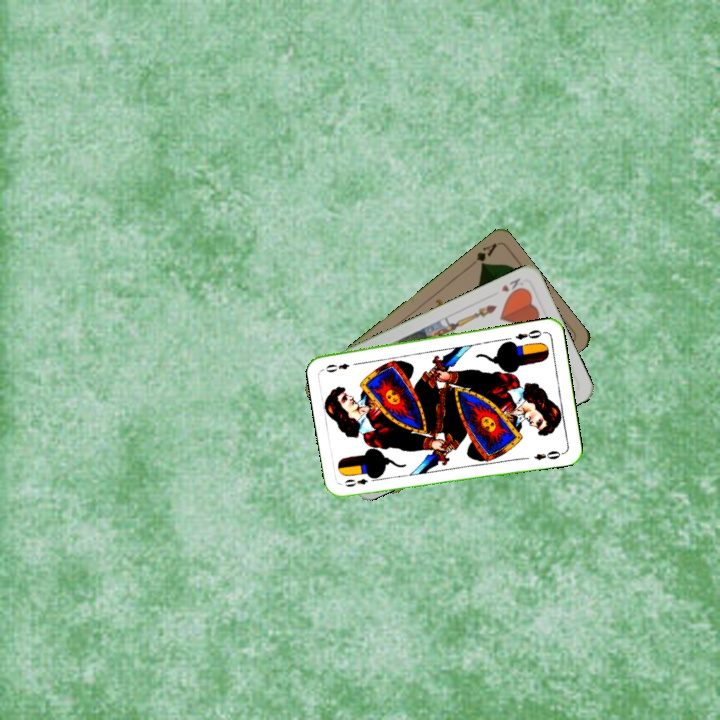EO: (340, 472, 380, 490), (511, 326, 547, 343)
GA: (472, 240, 499, 269)
HK: (497, 274, 527, 298)
